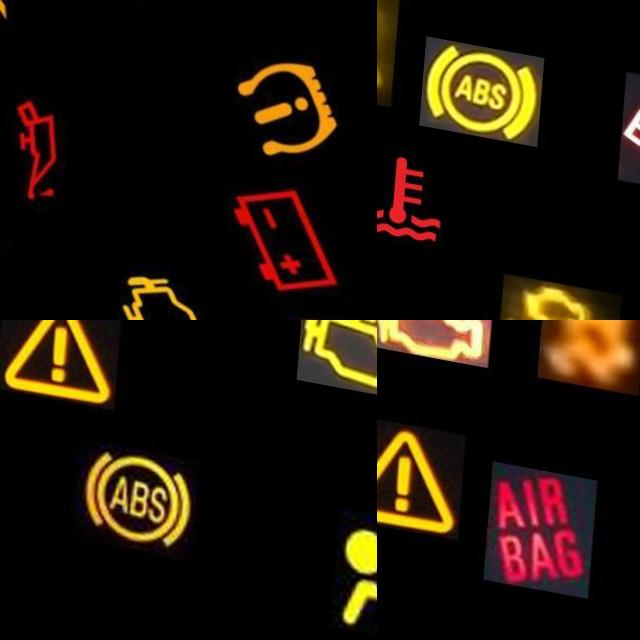Central Warning lamp: (377, 401, 470, 522), (0, 320, 123, 400)
Engine cooling system: (377, 120, 466, 255)
